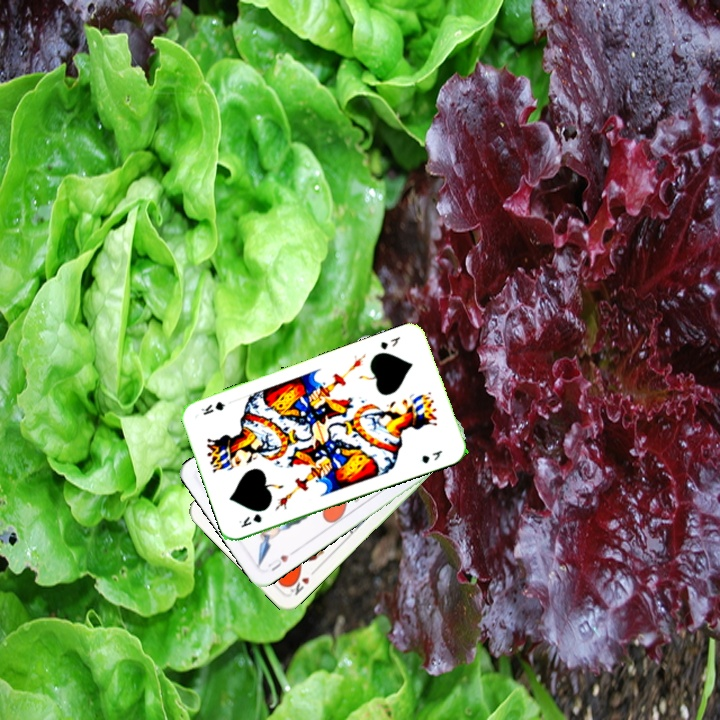GK: (234, 509, 264, 530), (376, 332, 403, 352)
HK: (283, 565, 319, 598)
HU: (264, 547, 298, 574)
